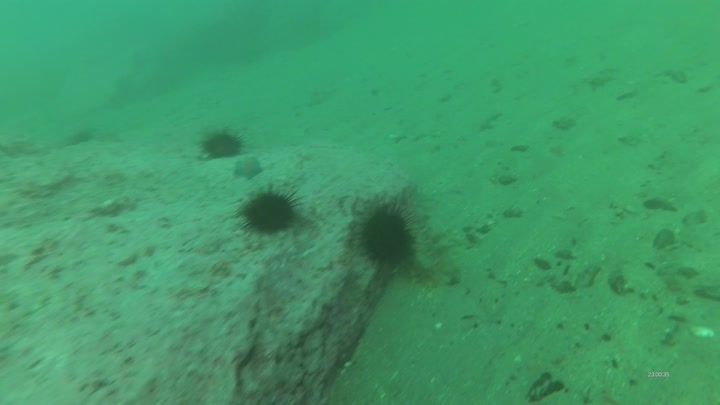echinus: (353, 199, 422, 274), (234, 184, 307, 238), (200, 129, 249, 162), (72, 128, 95, 145)
starfish: (233, 155, 265, 182)
